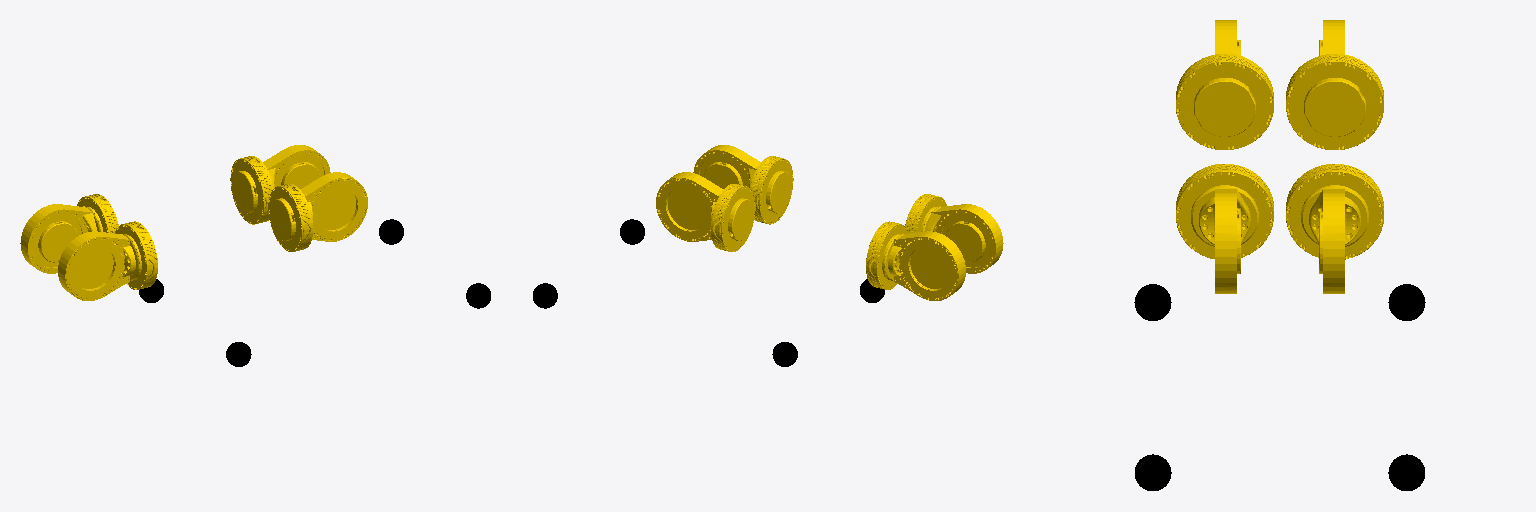
--- What the picture shows (computed from the rendered views, not written in the file) ---
The picture shows the robot from 3 angles, left to right: view 1: azimuth 30°, elevation 25°; view 2: azimuth 150°, elevation 25°; view 3: azimuth 270°, elevation 25°; orthographic projection.
Robot: quake_description — 23 links, 22 joints (12 revolute, 10 fixed); root link base; default pose: joints at zero except 4 at the middle of their limits (FR_calf_joint = -1.81, FL_calf_joint = -1.81, RR_calf_joint = -1.81, RL_calf_joint = -1.81).
Links seen in each view (by area): view 1: RR_hip, FR_hip, FL_hip, RL_hip; view 2: RL_hip, FL_hip, FR_hip, RR_hip; view 3: FL_hip, RL_hip, FR_hip, RR_hip, RR_foot, RL_foot, FR_foot, FL_foot.
Boxes of the visible links, left/top/right/bottom form: RR_hip: left=58, top=221, right=157, bottom=300; FR_hip: left=268, top=172, right=367, bottom=251; FL_hip: left=230, top=145, right=330, bottom=224; RL_hip: left=20, top=194, right=118, bottom=273; RL_hip: left=866, top=221, right=965, bottom=300; FL_hip: left=656, top=172, right=755, bottom=251; FR_hip: left=693, top=145, right=793, bottom=224; RR_hip: left=905, top=194, right=1003, bottom=273; FL_hip: left=1286, top=164, right=1383, bottom=293; RL_hip: left=1286, top=20, right=1383, bottom=149; FR_hip: left=1176, top=164, right=1273, bottom=293; RR_hip: left=1176, top=20, right=1273, bottom=149; RR_foot: left=1134, top=284, right=1171, bottom=320; RL_foot: left=1388, top=284, right=1425, bottom=320; FR_foot: left=1135, top=454, right=1171, bottom=490; FL_foot: left=1388, top=454, right=1424, bottom=490.
Size in the robot's own frame: 1.17 by 0.502 by 0.3949 metres.
4 mesh visuals loaded from 5 distinct referenced files (1 binary STL); not drawn: 9 (reference not matched to a file when rendering).

robot.urdf — quake_description:
<?xml version="1.0" ?>
<!-- =================================================================================== -->
<!-- |    This document was autogenerated by xacro from robot.xacro                    | -->
<!-- |    EDITING THIS FILE BY HAND IS NOT RECOMMENDED                                 | -->
<!-- =================================================================================== -->
<robot name="quake_description">
  <!-- ? -->
  <!-- ? -->
  <!-- arm -->
  <!-- <xacro:property name="arm_base_mass" value=""/> 
    <xacro:property name="arm_base_width" value=""/> 
    <xacro:property name="arm_base_length" value=""/> 
    <xacro:property name="arm_base_height" value=""/> 
    <xacro:property name="arm_base_com_x" value=""/> 
    <xacro:property name="arm_base_com_y" value=""/> 
    <xacro:property name="arm_base_com_z" value=""/> 
    <xacro:property name="arm_base_ixx" value=""/>
    <xacro:property name="arm_base_ixy" value=""/>
    <xacro:property name="arm_base_ixz" value=""/>
    <xacro:property name="arm_base_iyy" value=""/>
    <xacro:property name="arm_base_iyz" value=""/>
    <xacro:property name="arm_base_izz" value=""/> -->
  <material name="black">
    <color rgba="0.0 0.0 0.0 1.0"/>
  </material>
  <material name="blue">
    <color rgba="0.0 0.0 0.8 1.0"/>
  </material>
  <material name="green">
    <color rgba="0.0 0.8 0.0 1.0"/>
  </material>
  <material name="grey">
    <color rgba="0.2 0.2 0.2 1.0"/>
  </material>
  <material name="silver">
    <color rgba="0.9137254901960784 0.9137254901960784 0.8470588235294118 1.0"/>
  </material>
  <material name="gold">
    <color rgba="1.0 0.8431372549019608 0.0 1.0"/>
  </material>
  <material name="orange">
    <color rgba="1.0 0.4235294117647059 0.0392156862745098 1.0"/>
  </material>
  <material name="brown">
    <color rgba="0.8705882352941177 0.8117647058823529 0.7647058823529411 1.0"/>
  </material>
  <material name="red">
    <color rgba="0.8 0.0 0.0 1.0"/>
  </material>
  <material name="white">
    <color rgba="1.0 1.0 1.0 1.0"/>
  </material>
 

  <link name="base">
    <visual>
      <origin rpy="0 0 0" xyz="0 0 0"/>
      <geometry>
	 <box size="0.001 0.001 0.001"/>
      </geometry>
    </visual>
  </link>

  <joint name="floating_base" type="fixed">
	<origin rpy="0 0 0" xyz="0.1 0.1 0"/>
	<parent link="base"/>
	<child link="trunk"/>
  </joint> 

  <link name="trunk">
    <visual>
      <origin rpy="0 0 0" xyz="0 0 0"/>
      <geometry>
        <mesh filename="package://quake_description/meshes/trunk.STL" scale="1 1 1"/>
      </geometry>
      <material name="gold"/>
    </visual>
    <!-- <collision>
            <origin rpy="0 0 0" xyz="0 0 0"/>
            <geometry>
                <mesh filename="package://quake_description/meshes/trunk.STL" scale="1 1 1"/>
            </geometry>
        </collision> -->
    <inertial>
      <origin rpy="0 0 0" xyz="0.0 0.0 0.0"/>
      <mass value="30.116"/>
      <inertia ixx="0.2" ixy="-0.00023853" ixz="2.4844e-05" iyy="0.5" iyz="-0.00044715" izz="0.6"/>
    </inertial>
  </link>
  <joint name="imu_joint" type="fixed">
    <parent link="trunk"/>
    <child link="imu_link"/>
    <origin rpy="0 0 0" xyz="0 0 0"/>
  </joint>
  <link name="imu_link">
    <inertial>
      <mass value="0.001"/>
      <origin rpy="0 0 0" xyz="0 0 0"/>
      <inertia ixx="0.0001" ixy="0" ixz="0" iyy="0.000001" iyz="0" izz="0.0001"/>
    </inertial>
    <visual>
      <origin rpy="0 0 0" xyz="0 0 0"/>
      <geometry>
        <box size="0.001 0.001 0.001"/>
      </geometry>
      <material name="red"/>
    </visual>
    <collision>
      <origin rpy="0 0 0" xyz="0 0 0"/>
      <geometry>
        <box size=".001 .001 .001"/>
      </geometry>
    </collision>
  </link>
  <HDL-32E gpu="false" hz="20" name="lidar_link" parent="trunk" samples="220" topic="/trunk_lidar">
    <origin rpy="0 0 3.14" xyz="0.42 0 0.1"/>
  </HDL-32E>
  <!-- INTEL REALSENSE D435 -->
  <!-- INTEL REALSENSE R200 -->
  <!-- T265 Fisheye:

  gazebo_ros_camera supports only plumb_bob
  D: [-0.007419134024530649, 0.041209351271390915, -0.03811917081475258, 0.006366158835589886, 0.0]

  <distortionK1>-0.007419134024530649</distortionK1>
  <distortionK2>0.041209351271390915</distortionK2>
  <distortionK3>-0.03811917081475258</distortionK3>
  <distortionT1>0.006366158835589886</distortionT1>
  <distortionT2>0.0</distortionT2>

       [fx'  0  cx' Tx]
   P = [ 0  fy' cy' Ty]
       [ 0   0   1   0]

   P : [ 285.5480041503906, 0.0, 416.00531005859375, 0.0,
         0.0, 285.3793029785156, 403.38909912109375, 0.0,
         0.0, 0.0, 1.0, 0.0 ]

  <CxPrime>416.00531005859375</CxPrime>

       [fx  0 cx]
   K = [ 0 fy cy]
       [ 0  0  1]

   K : [ 285.5480041503906, 0.0, 416.00531005859375,
         0.0, 285.3793029785156, 403.38909912109375,
         0.0, 0.0, 1.0]

  <Cx>16.00531005859375</Cx>
  <Cy>403.38909912109375</Cy>

  -->
 

  <!-- <xacro:arg name="use_nominal_extrinsics" default="false" />
    <xacro:include filename="$(find realsense2_description)/urdf/_d435i.urdf.xacro"/>
    <xacro:sensor_d435i parent="trunk" use_nominal_extrinsics="$(arg use_nominal_extrinsics)">
        <origin xyz="0.45 0 0.01" rpy="0 0 0.0"/>
    </xacro:sensor_d435i> -->
  <joint name="FR_hip_joint" type="revolute">
    <origin rpy="0 0 0" xyz="0.241 -0.095 0"/>
    <parent link="trunk"/>
    <child link="FR_hip"/>
    <axis xyz="1 0 0"/>
    <dynamics damping="0.4" friction="0.2"/>
    <limit effort="200" lower="-1.1300832373738083" upper="1.1300832373738083" velocity="52.4"/>
  </joint>
  <link name="FR_hip">
    <visual>
      <origin rpy="3.141592653589793 0 0" xyz="0 0 0"/>
      <geometry>
        <mesh filename="package://quake_description/meshes/hip.STL" scale="1 1 1"/>
      </geometry>
      <material name="gold"/>
    </visual>
    <collision>
      <origin rpy="1.5707963267948966 0 0" xyz="0 0.04 0"/>
      <geometry>
        <cylinder length="0.08" radius="0.041"/>
      </geometry>
    </collision>
    <inertial>
      <origin rpy="0 0 0" xyz="-0.001568 0.008134 0.000864"/>
      <mass value="2.354"/>
      <inertia ixx="0.0047303" ixy="-2.3798e-05" ixz="-4.2348e-08" iyy="0.0051123" iyz="3.807e-06" izz="0.0035171"/>
    </inertial>
  </link>
  <joint name="FR_hip_fixed" type="fixed">
    <origin rpy="0 0 0" xyz="0 -0.04 0"/>
    <parent link="FR_hip"/>
    <child link="FR_thigh_shoulder"/>
  </joint>
  <!-- this link is only for collision -->
  <link name="FR_thigh_shoulder">
    <collision>
      <origin rpy="1.5707963267948966 0 0" xyz="0 0 0"/>
      <geometry>
        <cylinder length="0.08" radius="0.044"/>
      </geometry>
    </collision>
  </link>
  <joint name="FR_thigh_joint" type="revolute">
    <origin rpy="0 0 0" xyz="0.1065 -0.062 0"/>
    <parent link="FR_hip"/>
    <child link="FR_thigh"/>
    <axis xyz="0 1 0"/>
    <dynamics damping="0.4" friction="0.2"/>
    <limit effort="550" lower="-1.0471975512" upper="4.18879020479" velocity="28.6"/>
  </joint>
  <link name="FR_thigh">
    <visual>
      <origin rpy="0 0 0" xyz="0 0 0"/>
      <geometry>
        <mesh filename="package://quake_description/meshes/thigh_mirror.STL" scale="1 1 1"/>
      </geometry>
      <material name="gold"/>
    </visual>
    <collision>
      <origin rpy="0 1.5707963267948966 0" xyz="0 0 -0.18"/>
      <geometry>
        <box size="0.36 0.034 0.043"/>
      </geometry>
    </collision>
    <inertial>
      <origin rpy="0 0 0" xyz="-0.000482 -0.02001 -0.031996"/>
      <mass value="4.199"/>
      <inertia ixx="0.010387" ixy="-2.7648e-05" ixz="-0.0006887" iyy="0.013004" iyz="-0.00021997" izz="0.0029272"/>
    </inertial>
  </link>
  <joint name="FR_calf_joint" type="revolute">
    <origin rpy="0 0 0" xyz="0 -0.062 -0.36"/>
    <parent link="FR_thigh"/>
    <child link="FR_calf"/>
    <axis xyz="0 1 0"/>
    <dynamics damping="0.4" friction="1.0"/>
    <limit effort="550" lower="-2.69653369433" upper="-0.916297857297" velocity="28.6"/>
  </joint>
  <link name="FR_calf">
    <visual>
      <origin rpy="0 0 0" xyz="0 0 0"/>
      <geometry>
        <mesh filename="package://quake_description/meshes/calf.STL" scale="1 1 1"/>
      </geometry>
      <surface>
        <friction>
          <ode>
            <mu>100.0</mu>
            <mu2>100.0</mu2>
          </ode>
        </friction>
      </surface>
      <material name="black"/>
    </visual>
    <collision>
      <origin rpy="0 1.5707963267948966 0" xyz="0 0 -0.18"/>
      <geometry>
        <box size="0.36 0.016 0.016"/>
      </geometry>
      <surface>
        <friction>
          <ode>
            <mu>100.0</mu>
            <mu2>100.0</mu2>
          </ode>
        </friction>
      </surface>
    </collision>
    <inertial>
      <origin rpy="0 0 0" xyz="-0.002196 -0.000381 -0.12338"/>
      <mass value="0.593"/>
      <inertia ixx="0.0031787" ixy="-1.5425e-07" ixz="0.0002511" iyy="0.0032683" iyz="3.2937e-07" izz="0.0001467"/>
    </inertial>
  </link>
  <joint name="FR_foot_fixed" type="fixed">
    <origin rpy="0 0 0" xyz="0 0 -0.36"/>
    <parent link="FR_calf"/>
    <child link="FR_foot"/>
  </joint>
  <link name="FR_foot">
    <visual>
      <origin rpy="0 0 0" xyz="0 0 0"/>
      <geometry>
        <sphere radius="0.032"/>
      </geometry>
      <surface>
        <friction>
          <ode>
            <mu>100.0</mu>
            <mu2>100.0</mu2>
          </ode>
        </friction>
      </surface>
      <material name="black"/>
    </visual>
    <collision>
      <origin rpy="0 0 0" xyz="0 0 0"/>
      <geometry>
        <sphere radius="0.042"/>
      </geometry>
      <surface>
        <friction>
          <ode>
            <mu>100.0</mu>
            <mu2>100.0</mu2>
          </ode>
        </friction>
        <!-- <contact>
                <min_depth>0.01</min_depth>
                </contact> -->
      </surface>
    </collision>
    <inertial>
      <mass value="0.06"/>
      <inertia ixx="4.2336e-05" ixy="0.0" ixz="0.0" iyy="4.2336e-05" iyz="0.0" izz="4.2336e-05"/>
    </inertial>
  </link>
  <!-- <joint name="${name}_empty_fixed" type="fixed">
            <origin rpy="0 0 0" xyz="0 0 ${-(calf_length)}"/>
            <parent link="${name}_foot"/>
            <child link="${name}_empty"/>
        </joint>

        <link name="${name}_empty">
            <visual>
                <origin rpy="0 0 0" xyz="0 0 0"/>
                <geometry>
                    <sphere radius="0.0001"/>
                </geometry>
                <surface>
                <friction>
                <ode>
                    <mu>100.0</mu>
                    <mu2>100.0</mu2>
                </ode>
                </friction>
                </surface>
                <material name="orange"/>
            </visual>
            <collision>
                <origin rpy="0 0 0" xyz="0 0 0"/>
                <geometry>
                    <sphere radius="0.0001"/>
                </geometry>
                <surface>
                <friction>
                <ode>
                    <mu>100.0</mu>
                    <mu2>100.0</mu2>
                </ode>
                </friction>
                </surface>
            </collision>
            <inertial>
                <mass value="0"/>
                <inertia
                    ixx="0" ixy="0.0" ixz="0.0"
                    iyy="0" iyz="0.0"
                    izz="0"/>             
            </inertial>
        </link> -->

  <transmission name="FR_hip_tran">
    <type>transmission_interface/SimpleTransmission</type>
    <joint name="FR_hip_joint">
      <hardwareInterface>hardware_interface/EffortJointInterface</hardwareInterface>
    </joint>
    <actuator name="FR_hip_motor">
      <hardwareInterface>hardware_interface/EffortJointInterface</hardwareInterface>
      <mechanicalReduction>1</mechanicalReduction>
    </actuator>
  </transmission>
  <transmission name="FR_thigh_tran">
    <type>transmission_interface/SimpleTransmission</type>
    <joint name="FR_thigh_joint">
      <hardwareInterface>hardware_interface/EffortJointInterface</hardwareInterface>
    </joint>
    <actuator name="FR_thigh_motor">
      <hardwareInterface>hardware_interface/EffortJointInterface</hardwareInterface>
      <mechanicalReduction>1</mechanicalReduction>
    </actuator>
  </transmission>
  <transmission name="FR_calf_tran">
    <type>transmission_interface/SimpleTransmission</type>
    <joint name="FR_calf_joint">
      <hardwareInterface>hardware_interface/EffortJointInterface</hardwareInterface>
    </joint>
    <actuator name="FR_calf_motor">
      <hardwareInterface>hardware_interface/EffortJointInterface</hardwareInterface>
      <mechanicalReduction>1</mechanicalReduction>
    </actuator>
  </transmission>
  <joint name="FL_hip_joint" type="revolute">
    <origin rpy="0 0 0" xyz="0.241 0.095 0"/>
    <parent link="trunk"/>
    <child link="FL_hip"/>
    <axis xyz="1 0 0"/>
    <dynamics damping="0.4" friction="0.2"/>
    <limit effort="200" lower="-1.1300832373738083" upper="1.1300832373738083" velocity="52.4"/>
  </joint>
  <link name="FL_hip">
    <visual>
      <origin rpy="0 0 0" xyz="0 0 0"/>
      <geometry>
        <mesh filename="package://quake_description/meshes/hip.STL" scale="1 1 1"/>
      </geometry>
      <material name="gold"/>
    </visual>
    <collision>
      <origin rpy="1.5707963267948966 0 0" xyz="0 -0.04 0"/>
      <geometry>
        <cylinder length="0.08" radius="0.041"/>
      </geometry>
    </collision>
    <inertial>
      <origin rpy="0 0 0" xyz="-0.001568 -0.008134 0.000864"/>
      <mass value="2.354"/>
      <inertia ixx="0.0047303" ixy="2.3798e-05" ixz="-4.2348e-08" iyy="0.0051123" iyz="-3.807e-06" izz="0.0035171"/>
    </inertial>
  </link>
  <joint name="FL_hip_fixed" type="fixed">
    <origin rpy="0 0 0" xyz="0 0.04 0"/>
    <parent link="FL_hip"/>
    <child link="FL_thigh_shoulder"/>
  </joint>
  <!-- this link is only for collision -->
  <link name="FL_thigh_shoulder">
    <collision>
      <origin rpy="1.5707963267948966 0 0" xyz="0 0 0"/>
      <geometry>
        <cylinder length="0.08" radius="0.044"/>
      </geometry>
    </collision>
  </link>
  <joint name="FL_thigh_joint" type="revolute">
    <origin rpy="0 0 0" xyz="0.1065 0.062 0"/>
    <parent link="FL_hip"/>
    <child link="FL_thigh"/>
    <axis xyz="0 1 0"/>
    <dynamics damping="0.4" friction="0.2"/>
    <limit effort="550" lower="-1.0471975512" upper="4.18879020479" velocity="28.6"/>
  </joint>
  <link name="FL_thigh">
    <visual>
      <origin rpy="0 0 0" xyz="0 0 0"/>
      <geometry>
        <mesh filename="package://quake_description/meshes/thigh.STL" scale="1 1 1"/>
      </geometry>
      <material name="gold"/>
    </visual>
    <collision>
      <origin rpy="0 1.5707963267948966 0" xyz="0 0 -0.18"/>
      <geometry>
        <box size="0.36 0.034 0.043"/>
      </geometry>
    </collision>
    <inertial>
      <origin rpy="0 0 0" xyz="-0.000482 0.02001 -0.031996"/>
      <mass value="4.199"/>
      <inertia ixx="0.010387" ixy="2.7648e-05" ixz="-0.0006887" iyy="0.013004" iyz="0.00021997" izz="0.0029272"/>
    </inertial>
  </link>
  <joint name="FL_calf_joint" type="revolute">
    <origin rpy="0 0 0" xyz="0 0.062 -0.36"/>
    <parent link="FL_thigh"/>
    <child link="FL_calf"/>
    <axis xyz="0 1 0"/>
    <dynamics damping="0.4" friction="1.0"/>
    <limit effort="550" lower="-2.69653369433" upper="-0.916297857297" velocity="28.6"/>
  </joint>
  <link name="FL_calf">
    <visual>
      <origin rpy="0 0 0" xyz="0 0 0"/>
      <geometry>
        <mesh filename="package://quake_description/meshes/calf.STL" scale="1 1 1"/>
      </geometry>
      <surface>
        <friction>
          <ode>
            <mu>100.0</mu>
            <mu2>100.0</mu2>
          </ode>
        </friction>
      </surface>
      <material name="black"/>
    </visual>
    <collision>
      <origin rpy="0 1.5707963267948966 0" xyz="0 0 -0.18"/>
      <geometry>
        <box size="0.36 0.016 0.016"/>
      </geometry>
      <surface>
        <friction>
          <ode>
            <mu>100.0</mu>
            <mu2>100.0</mu2>
          </ode>
        </friction>
      </surface>
    </collision>
    <inertial>
      <origin rpy="0 0 0" xyz="-0.002196 -0.000381 -0.12338"/>
      <mass value="0.593"/>
      <inertia ixx="0.0031787" ixy="-1.5425e-07" ixz="0.0002511" iyy="0.0032683" iyz="3.2937e-07" izz="0.0001467"/>
    </inertial>
  </link>
  <joint name="FL_foot_fixed" type="fixed">
    <origin rpy="0 0 0" xyz="0 0 -0.36"/>
    <parent link="FL_calf"/>
    <child link="FL_foot"/>
  </joint>
  <link name="FL_foot">
    <visual>
      <origin rpy="0 0 0" xyz="0 0 0"/>
      <geometry>
        <sphere radius="0.032"/>
      </geometry>
      <surface>
        <friction>
          <ode>
            <mu>100.0</mu>
            <mu2>100.0</mu2>
          </ode>
        </friction>
      </surface>
      <material name="black"/>
    </visual>
    <collision>
      <origin rpy="0 0 0" xyz="0 0 0"/>
      <geometry>
        <sphere radius="0.042"/>
      </geometry>
      <surface>
        <friction>
          <ode>
            <mu>100.0</mu>
            <mu2>100.0</mu2>
          </ode>
        </friction>
        <!-- <contact>
                <min_depth>0.01</min_depth>
                </contact> -->
      </surface>
    </collision>
    <inertial>
      <mass value="0.06"/>
      <inertia ixx="4.2336e-05" ixy="0.0" ixz="0.0" iyy="4.2336e-05" iyz="0.0" izz="4.2336e-05"/>
    </inertial>
  </link>
  <!-- <joint name="${name}_empty_fixed" type="fixed">
            <origin rpy="0 0 0" xyz="0 0 ${-(calf_length)}"/>
            <parent link="${name}_foot"/>
            <child link="${name}_empty"/>
        </joint>

        <link name="${name}_empty">
            <visual>
                <origin rpy="0 0 0" xyz="0 0 0"/>
                <geometry>
                    <sphere radius="0.0001"/>
                </geometry>
                <surface>
                <friction>
                <ode>
                    <mu>100.0</mu>
                    <mu2>100.0</mu2>
                </ode>
                </friction>
                </surface>
                <material name="orange"/>
            </visual>
            <collision>
                <origin rpy="0 0 0" xyz="0 0 0"/>
                <geometry>
                    <sphere radius="0.0001"/>
                </geometry>
                <surface>
                <friction>
                <ode>
                    <mu>100.0</mu>
                    <mu2>100.0</mu2>
                </ode>
                </friction>
                </surface>
            </collision>
            <inertial>
                <mass value="0"/>
                <inertia
                    ixx="0" ixy="0.0" ixz="0.0"
                    iyy="0" iyz="0.0"
                    izz="0"/>             
            </inertial>
        </link> -->

  <transmission name="FL_hip_tran">
    <type>transmission_interface/SimpleTransmission</type>
    <joint name="FL_hip_joint">
      <hardwareInterface>hardware_interface/EffortJointInterface</hardwareInterface>
    </joint>
    <actuator name="FL_hip_motor">
      <hardwareInterface>hardware_interface/EffortJointInterface</hardwareInterface>
      <mechanicalReduction>1</mechanicalReduction>
    </actuator>
  </transmission>
  <transmission name="FL_thigh_tran">
    <type>transmission_interface/SimpleTransmission</type>
    <joint name="FL_thigh_joint">
      <hardwareInterface>hardware_interface/EffortJointInterface</hardwareInterface>
    </joint>
    <actuator name="FL_thigh_motor">
      <hardwareInterface>hardware_interface/EffortJointInterface</hardwareInterface>
      <mechanicalReduction>1</mechanicalReduction>
    </actuator>
  </transmission>
  <transmission name="FL_calf_tran">
    <type>transmission_interface/SimpleTransmission</type>
    <joint name="FL_calf_joint">
      <hardwareInterface>hardware_interface/EffortJointInterface</hardwareInterface>
    </joint>
    <actuator name="FL_calf_motor">
      <hardwareInterface>hardware_interface/EffortJointInterface</hardwareInterface>
      <mechanicalReduction>1</mechanicalReduction>
    </actuator>
  </transmission>
  <joint name="RR_hip_joint" type="revolute">
    <origin rpy="0 0 0" xyz="-0.241 -0.095 0"/>
    <parent link="trunk"/>
    <child link="RR_hip"/>
    <axis xyz="1 0 0"/>
    <dynamics damping="0.4" friction="0.2"/>
    <limit effort="200" lower="-1.1300832373738083" upper="1.1300832373738083" velocity="52.4"/>
  </joint>
  <link name="RR_hip">
    <visual>
      <origin rpy="3.141592653589793 3.141592653589793 0" xyz="0 0 0"/>
      <geometry>
        <mesh filename="package://quake_description/meshes/hip.STL" scale="1 1 1"/>
      </geometry>
      <material name="gold"/>
    </visual>
    <collision>
      <origin rpy="1.5707963267948966 0 0" xyz="0 0.04 0"/>
      <geometry>
        <cylinder length="0.08" radius="0.041"/>
      </geometry>
    </collision>
    <inertial>
      <origin rpy="0 0 0" xyz="0.001568 0.008134 0.000864"/>
      <mass value="2.354"/>
      <inertia ixx="0.0047303" ixy="2.3798e-05" ixz="4.2348e-08" iyy="0.0051123" iyz="3.807e-06" izz="0.0035171"/>
    </inertial>
  </link>
  <joint name="RR_hip_fixed" type="fixed">
    <origin rpy="0 0 0" xyz="0 -0.04 0"/>
    <parent link="RR_hip"/>
    <child link="RR_thigh_shoulder"/>
  </joint>
  <!-- this link is only for collision -->
  <link name="RR_thigh_shoulder">
    <collision>
      <origin rpy="1.5707963267948966 0 0" xyz="0 0 0"/>
      <geometry>
        <cylinder length="0.08" radius="0.044"/>
      </geometry>
    </collision>
  </link>
  <joint name="RR_thigh_joint" type="revolute">
    <origin rpy="0 0 0" xyz="-0.1065 -0.062 0"/>
    <parent link="RR_hip"/>
    <child link="RR_thigh"/>
    <axis xyz="0 1 0"/>
    <dynamics damping="0.4" friction="0.2"/>
    <limit effort="550" lower="-1.0471975512" upper="4.18879020479" velocity="28.6"/>
  </joint>
  <link name="RR_thigh">
    <visual>
      <origin rpy="0 0 0" xyz="0 0 0"/>
      <geometry>
        <mesh filename="package://quake_description/meshes/thigh_mirror.STL" scale="1 1 1"/>
      </geometry>
      <material name="gold"/>
    </visual>
    <collision>
      <origin rpy="0 1.5707963267948966 0" xyz="0 0 -0.18"/>
      <geometry>
        <box size="0.36 0.034 0.043"/>
      </geometry>
    </collision>
    <inertial>
      <origin rpy="0 0 0" xyz="-0.000482 -0.02001 -0.031996"/>
      <mass value="4.199"/>
      <inertia ixx="0.010387" ixy="-2.7648e-05" ixz="-0.0006887" iyy="0.013004" iyz="-0.00021997" izz="0.0029272"/>
    </inertial>
  </link>
  <joint name="RR_calf_joint" type="revolute">
    <origin rpy="0 0 0" xyz="0 -0.062 -0.36"/>
    <parent link="RR_thigh"/>
    <child link="RR_calf"/>
    <axis xyz="0 1 0"/>
    <dynamics damping="0.4" friction="1.0"/>
    <limit effort="550" lower="-2.69653369433" upper="-0.916297857297" velocity="28.6"/>
  </joint>
  <link name="RR_calf">
    <visual>
      <origin rpy="0 0 0" xyz="0 0 0"/>
      <geometry>
        <mesh filename="package://quake_description/meshes/calf.STL" scale="1 1 1"/>
      </geometry>
      <surface>
        <friction>
          <ode>
            <mu>100.0</mu>
            <mu2>100.0</mu2>
          </ode>
        </friction>
      </surface>
      <material name="black"/>
    </visual>
    <collision>
      <origin rpy="0 1.5707963267948966 0" xyz="0 0 -0.18"/>
      <geometry>
        <box size="0.36 0.016 0.016"/>
      </geometry>
      <surface>
        <friction>
          <ode>
            <mu>100.0</mu>
            <mu2>100.0</mu2>
          </ode>
        </friction>
      </surface>
    </collision>
    <inertial>
      <origin rpy="0 0 0" xyz="-0.002196 -0.000381 -0.12338"/>
      <mass value="0.593"/>
      <inertia ixx="0.0031787" ixy="-1.5425e-07" ixz="0.0002511" iyy="0.0032683" iyz="3.2937e-07" izz="0.0001467"/>
    </inertial>
  </link>
  <joint name="RR_foot_fixed" type="fixed">
    <origin rpy="0 0 0" xyz="0 0 -0.36"/>
    <parent link="RR_calf"/>
    <child link="RR_foot"/>
  </joint>
  <link name="RR_foot">
    <visual>
      <origin rpy="0 0 0" xyz="0 0 0"/>
      <geometry>
        <sphere radius="0.032"/>
      </geometry>
      <surface>
        <friction>
          <ode>
            <mu>100.0</mu>
            <mu2>100.0</mu2>
          </ode>
        </friction>
      </surface>
      <material name="black"/>
    </visual>
    <collision>
      <origin rpy="0 0 0" xyz="0 0 0"/>
      <geometry>
        <sphere radius="0.042"/>
      </geometry>
      <surface>
        <friction>
          <ode>
            <mu>100.0</mu>
            <mu2>100.0</mu2>
          </ode>
        </friction>
        <!-- <contact>
                <min_depth>0.01</min_depth>
                </contact> -->
      </surface>
    </collision>
    <inertial>
      <mass value="0.06"/>
      <inertia ixx="4.2336e-05" ixy="0.0" ixz="0.0" iyy="4.2336e-05" iyz="0.0" izz="4.2336e-05"/>
    </inertial>
  </link>
  <!-- <joint name="${name}_empty_fixed" type="fixed">
            <origin rpy="0 0 0" xyz="0 0 ${-(calf_length)}"/>
            <parent link="${name}_foot"/>
            <child link="${name}_empty"/>
        </joint>

        <link name="${name}_empty">
            <visual>
                <origin rpy="0 0 0" xyz="0 0 0"/>
                <geometry>
                    <sphere radius="0.0001"/>
                </geometry>
                <surface>
                <friction>
                <ode>
                    <mu>100.0</mu>
                    <mu2>100.0</mu2>
                </ode>
                </friction>
                </surface>
                <material name="orange"/>
            </visual>
            <collision>
                <origin rpy="0 0 0" xyz="0 0 0"/>
                <geometry>
                    <sphere radius="0.0001"/>
                </geometry>
                <surface>
                <friction>
                <ode>
                    <mu>100.0</mu>
                    <mu2>100.0</mu2>
                </ode>
                </friction>
                </surface>
            </collision>
            <inertial>
                <mass value="0"/>
                <inertia
                    ixx="0" ixy="0.0" ixz="0.0"
                    iyy="0" iyz="0.0"
                    izz="0"/>             
            </inertial>
        </link> -->

  <transmission name="RR_hip_tran">
    <type>transmission_interface/SimpleTransmission</type>
    <joint name="RR_hip_joint">
      <hardwareInterface>hardware_interface/EffortJointInterface</hardwareInterface>
    </joint>
    <actuator name="RR_hip_motor">
      <hardwareInterface>hardware_interface/EffortJointInterface</hardwareInterface>
      <mechanicalReduction>1</mechanicalReduction>
    </actuator>
  </transmission>
  <transmission name="RR_thigh_tran">
    <type>transmission_interface/SimpleTransmission</type>
    <joint name="RR_thigh_joint">
      <hardwareInterface>hardware_interface/EffortJointInterface</hardwareInterface>
    </joint>
    <actuator name="RR_thigh_motor">
      <hardwareInterface>hardware_interface/EffortJointInterface</hardwareInterface>
      <mechanicalReduction>1</mechanicalReduction>
    </actuator>
  </transmission>
  <transmission name="RR_calf_tran">
    <type>transmission_interface/SimpleTransmission</type>
    <joint name="RR_calf_joint">
      <hardwareInterface>hardware_interface/EffortJointInterface</hardwareInterface>
    </joint>
    <actuator name="RR_calf_motor">
      <hardwareInterface>hardware_interface/EffortJointInterface</hardwareInterface>
      <mechanicalReduction>1</mechanicalReduction>
    </actuator>
  </transmission>
  <joint name="RL_hip_joint" type="revolute">
    <origin rpy="0 0 0" xyz="-0.241 0.095 0"/>
    <parent link="trunk"/>
    <child link="RL_hip"/>
    <axis xyz="1 0 0"/>
    <dynamics damping="0.4" friction="0.2"/>
    <limit effort="200" lower="-1.1300832373738083" upper="1.1300832373738083" velocity="52.4"/>
  </joint>
  <link name="RL_hip">
    <visual>
      <origin rpy="0 3.141592653589793 0" xyz="0 0 0"/>
      <geometry>
        <mesh filename="package://quake_description/meshes/hip.STL" scale="1 1 1"/>
      </geometry>
      <material name="gold"/>
    </visual>
    <collision>
      <origin rpy="1.5707963267948966 0 0" xyz="0 -0.04 0"/>
      <geometry>
        <cylinder length="0.08" radius="0.041"/>
      </geometry>
    </collision>
    <inertial>
      <origin rpy="0 0 0" xyz="0.001568 -0.008134 0.000864"/>
      <mass value="2.354"/>
      <inertia ixx="0.0047303" ixy="-2.3798e-05" ixz="4.2348e-08" iyy="0.0051123" iyz="-3.807e-06" izz="0.0035171"/>
    </inertial>
  </link>
  <joint name="RL_hip_fixed" type="fixed">
    <origin rpy="0 0 0" xyz="0 0.04 0"/>
    <parent link="RL_hip"/>
    <child link="RL_thigh_shoulder"/>
  </joint>
  <!-- this link is only for collision -->
  <link name="RL_thigh_shoulder">
    <collision>
      <origin rpy="1.5707963267948966 0 0" xyz="0 0 0"/>
      <geometry>
        <cylinder length="0.08" radius="0.044"/>
      </geometry>
    </collision>
  </link>
  <joint name="RL_thigh_joint" type="revolute">
    <origin rpy="0 0 0" xyz="-0.1065 0.062 0"/>
    <parent link="RL_hip"/>
    <child link="RL_thigh"/>
    <axis xyz="0 1 0"/>
    <dynamics damping="0.4" friction="0.2"/>
    <limit effort="550" lower="-1.0471975512" upper="4.18879020479" velocity="28.6"/>
  </joint>
  <link name="RL_thigh">
    <visual>
      <origin rpy="0 0 0" xyz="0 0 0"/>
      <geometry>
        <mesh filename="package://quake_description/meshes/thigh.STL" scale="1 1 1"/>
      </geometry>
      <material name="gold"/>
    </visual>
    <collision>
      <origin rpy="0 1.5707963267948966 0" xyz="0 0 -0.18"/>
      <geometry>
        <box size="0.36 0.034 0.043"/>
      </geometry>
    </collision>
    <inertial>
      <origin rpy="0 0 0" xyz="-0.000482 0.02001 -0.031996"/>
      <mass value="4.199"/>
      <inertia ixx="0.010387" ixy="2.7648e-05" ixz="-0.0006887" iyy="0.013004" iyz="0.00021997" izz="0.0029272"/>
    </inertial>
  </link>
  <joint name="RL_calf_joint" type="revolute">
    <origin rpy="0 0 0" xyz="0 0.062 -0.36"/>
    <parent link="RL_thigh"/>
    <child link="RL_calf"/>
    <axis xyz="0 1 0"/>
    <dynamics damping="0.4" friction="1.0"/>
    <limit effort="550" lower="-2.69653369433" upper="-0.916297857297" velocity="28.6"/>
  </joint>
  <link name="RL_calf">
    <visual>
      <origin rpy="0 0 0" xyz="0 0 0"/>
      <geometry>
        <mesh filename="package://quake_description/meshes/calf.STL" scale="1 1 1"/>
      </geometry>
      <surface>
        <friction>
          <ode>
            <mu>100.0</mu>
            <mu2>100.0</mu2>
          </ode>
        </friction>
      </surface>
      <material name="black"/>
    </visual>
    <collision>
      <origin rpy="0 1.5707963267948966 0" xyz="0 0 -0.18"/>
      <geometry>
        <box size="0.36 0.016 0.016"/>
      </geometry>
      <surface>
        <friction>
          <ode>
            <mu>100.0</mu>
            <mu2>100.0</mu2>
          </ode>
        </friction>
      </surface>
    </collision>
    <inertial>
      <origin rpy="0 0 0" xyz="-0.002196 -0.000381 -0.12338"/>
      <mass value="0.593"/>
      <inertia ixx="0.0031787" ixy="-1.5425e-07" ixz="0.0002511" iyy="0.0032683" iyz="3.2937e-07" izz="0.0001467"/>
    </inertial>
  </link>
  <joint name="RL_foot_fixed" type="fixed">
    <origin rpy="0 0 0" xyz="0 0 -0.36"/>
    <parent link="RL_calf"/>
    <child link="RL_foot"/>
  </joint>
  <link name="RL_foot">
    <visual>
      <origin rpy="0 0 0" xyz="0 0 0"/>
      <geometry>
        <sphere radius="0.032"/>
      </geometry>
      <surface>
        <friction>
          <ode>
            <mu>100.0</mu>
            <mu2>100.0</mu2>
          </ode>
        </friction>
      </surface>
      <material name="black"/>
    </visual>
    <collision>
      <origin rpy="0 0 0" xyz="0 0 0"/>
      <geometry>
        <sphere radius="0.042"/>
      </geometry>
      <surface>
        <friction>
          <ode>
            <mu>100.0</mu>
            <mu2>100.0</mu2>
          </ode>
        </friction>
        <!-- <contact>
                <min_depth>0.01</min_depth>
                </contact> -->
      </surface>
    </collision>
    <inertial>
      <mass value="0.06"/>
      <inertia ixx="4.2336e-05" ixy="0.0" ixz="0.0" iyy="4.2336e-05" iyz="0.0" izz="4.2336e-05"/>
    </inertial>
  </link>
  <!-- <joint name="${name}_empty_fixed" type="fixed">
            <origin rpy="0 0 0" xyz="0 0 ${-(calf_length)}"/>
            <parent link="${name}_foot"/>
            <child link="${name}_empty"/>
        </joint>

        <link name="${name}_empty">
            <visual>
                <origin rpy="0 0 0" xyz="0 0 0"/>
                <geometry>
                    <sphere radius="0.0001"/>
                </geometry>
                <surface>
                <friction>
                <ode>
                    <mu>100.0</mu>
                    <mu2>100.0</mu2>
                </ode>
                </friction>
                </surface>
                <material name="orange"/>
            </visual>
            <collision>
                <origin rpy="0 0 0" xyz="0 0 0"/>
                <geometry>
                    <sphere radius="0.0001"/>
                </geometry>
                <surface>
                <friction>
                <ode>
                    <mu>100.0</mu>
                    <mu2>100.0</mu2>
                </ode>
                </friction>
                </surface>
            </collision>
            <inertial>
                <mass value="0"/>
                <inertia
                    ixx="0" ixy="0.0" ixz="0.0"
                    iyy="0" iyz="0.0"
                    izz="0"/>             
            </inertial>
        </link> -->

  <transmission name="RL_hip_tran">
    <type>transmission_interface/SimpleTransmission</type>
    <joint name="RL_hip_joint">
      <hardwareInterface>hardware_interface/EffortJointInterface</hardwareInterface>
    </joint>
    <actuator name="RL_hip_motor">
      <hardwareInterface>hardware_interface/EffortJointInterface</hardwareInterface>
      <mechanicalReduction>1</mechanicalReduction>
    </actuator>
  </transmission>
  <transmission name="RL_thigh_tran">
    <type>transmission_interface/SimpleTransmission</type>
    <joint name="RL_thigh_joint">
      <hardwareInterface>hardware_interface/EffortJointInterface</hardwareInterface>
    </joint>
    <actuator name="RL_thigh_motor">
      <hardwareInterface>hardware_interface/EffortJointInterface</hardwareInterface>
      <mechanicalReduction>1</mechanicalReduction>
    </actuator>
  </transmission>
  <transmission name="RL_calf_tran">
    <type>transmission_interface/SimpleTransmission</type>
    <joint name="RL_calf_joint">
      <hardwareInterface>hardware_interface/EffortJointInterface</hardwareInterface>
    </joint>
    <actuator name="RL_calf_motor">
      <hardwareInterface>hardware_interface/EffortJointInterface</hardwareInterface>
      <mechanicalReduction>1</mechanicalReduction>
    </actuator>
  </transmission>

</robot>
